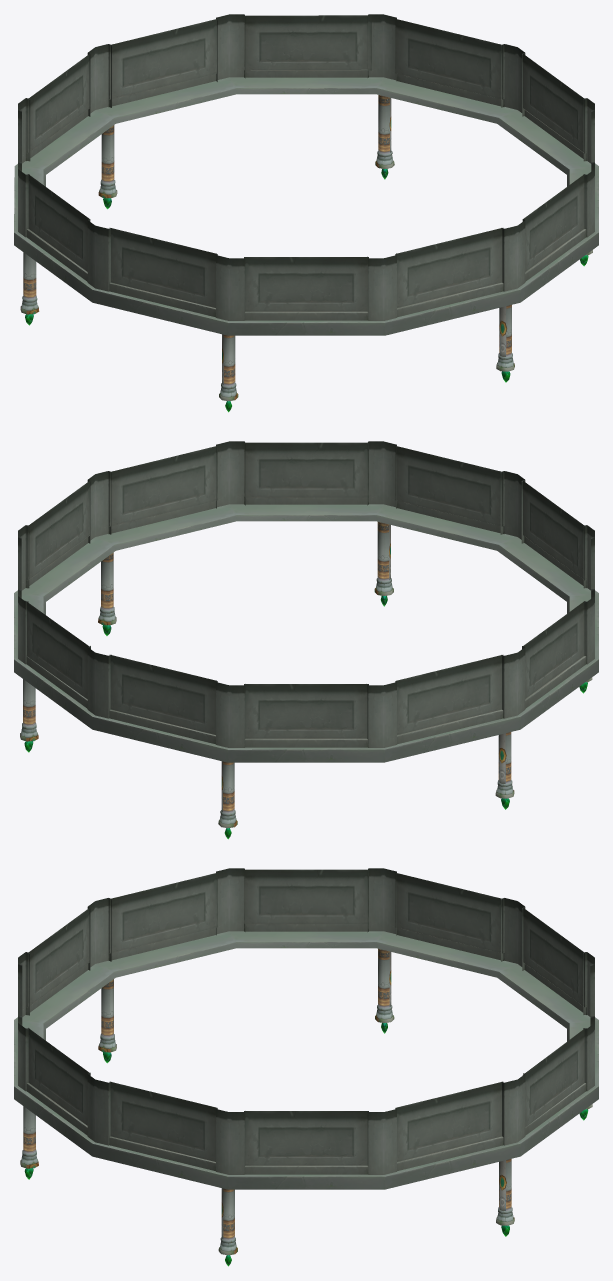
The model's file is scene_feicuizhita_tading03.FBX.
3 renders of one model, top to bottom at view 1: azimuth 30°, elevation 25°; view 2: azimuth 150°, elevation 25°; view 3: azimuth 270°, elevation 25°, orthographic.
Visible parts, largest first — view 1: scene_feicuizhita_tading03; view 2: scene_feicuizhita_tading03; view 3: scene_feicuizhita_tading03.
Part boxes in pixels (<box>): scene_feicuizhita_tading03: <box>14,14,598,412</box>; scene_feicuizhita_tading03: <box>14,441,598,839</box>; scene_feicuizhita_tading03: <box>14,868,598,1266</box>.
Bounding box in the file's own units: 2571 × 776 × 2571.
